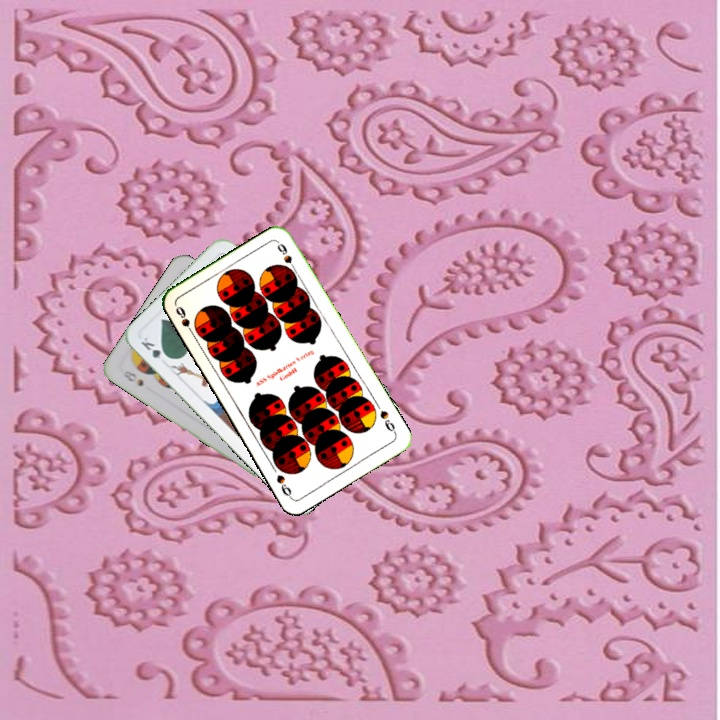GK: (136, 333, 172, 363)
S8: (119, 366, 146, 389)
S9: (171, 302, 201, 339), (376, 406, 399, 437)
